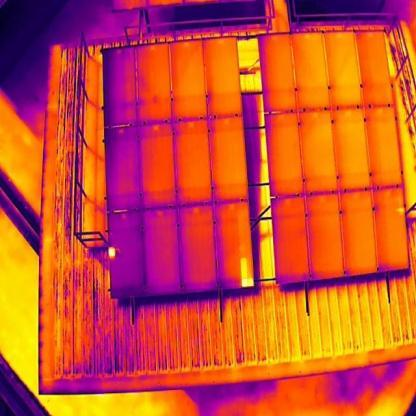anomaly: (237, 254, 256, 292), (106, 245, 117, 261)
